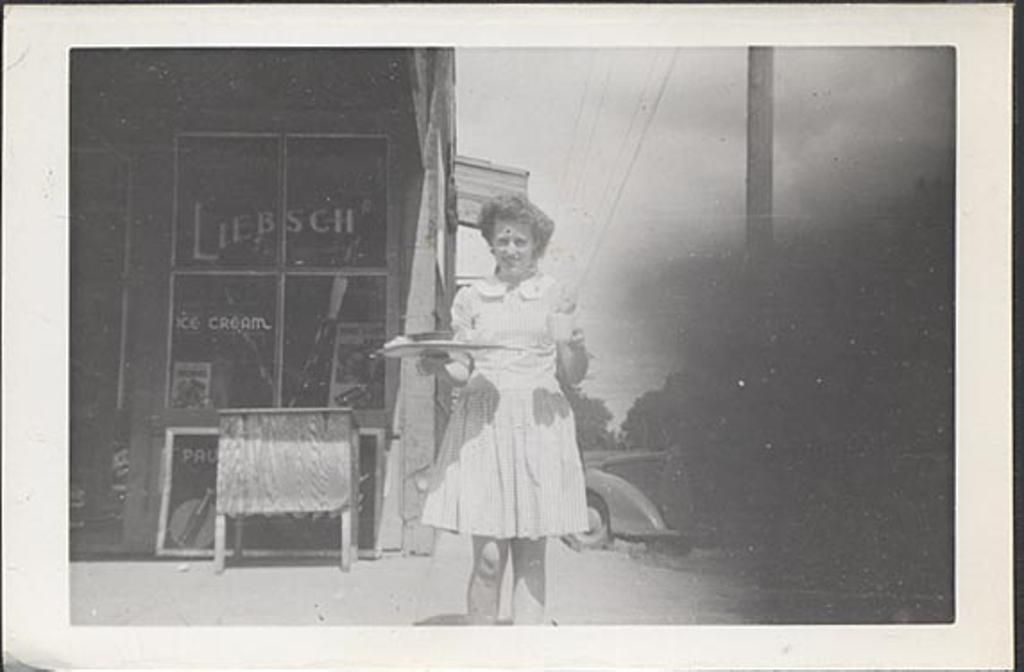face: (492, 230, 533, 279)
